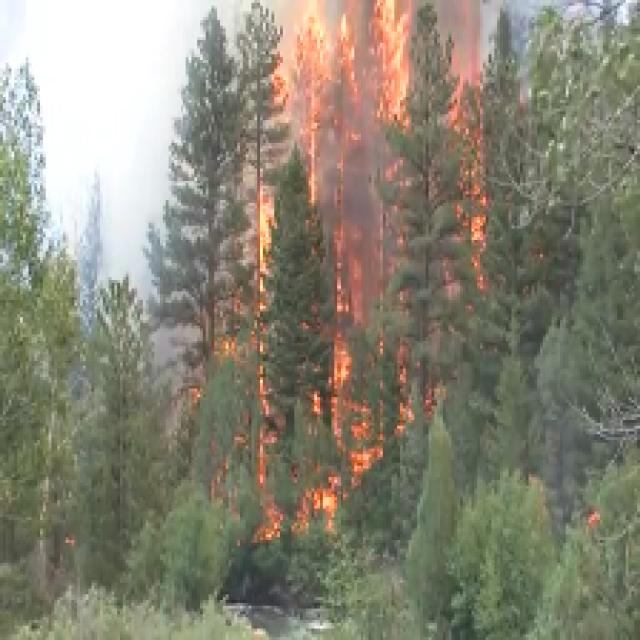fire: (371, 1, 420, 128)
smoke: (72, 3, 158, 233)
